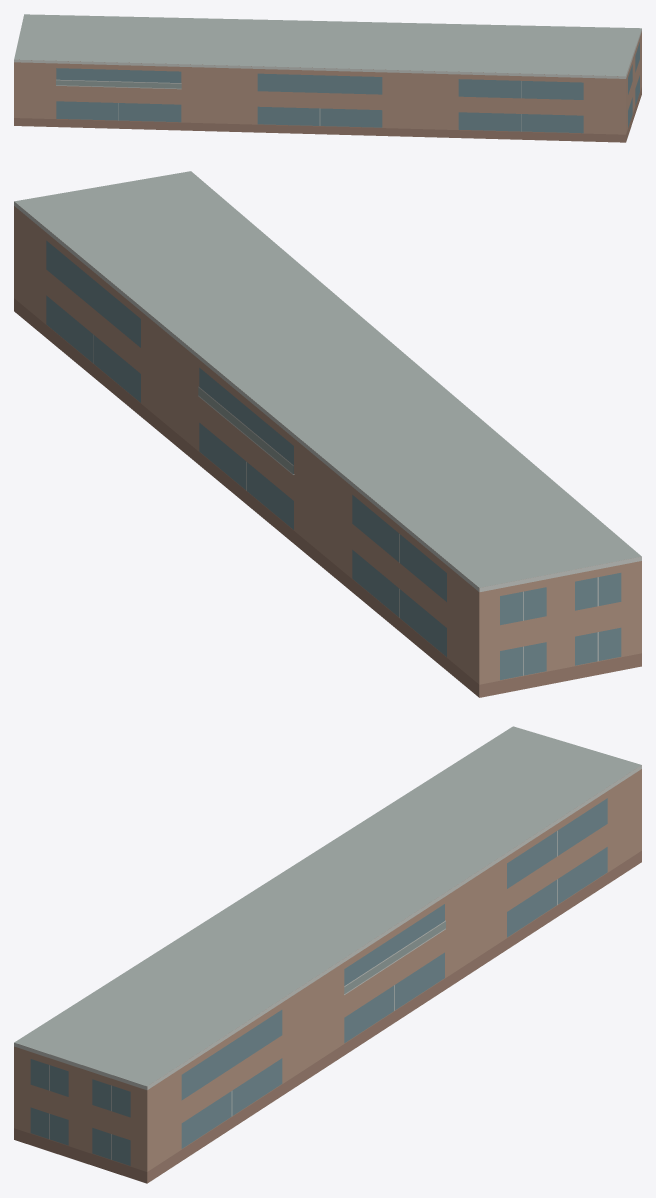
File: residential-02fe35c4-8753-4f9d-ad74-75081f94cac5.glb
The picture shows the model from 3 angles, top to bottom: view 1: azimuth 30°, elevation 25°; view 2: azimuth 150°, elevation 25°; view 3: azimuth 270°, elevation 25°; orthographic projection. The views are drawn at different scales.
Visible parts, largest first — view 1: residential-02fe35c4-8753-4f9d-ad74-75081f94cac5.tmp; view 2: residential-02fe35c4-8753-4f9d-ad74-75081f94cac5.tmp; view 3: residential-02fe35c4-8753-4f9d-ad74-75081f94cac5.tmp.
Part boxes in pixels (<box>): residential-02fe35c4-8753-4f9d-ad74-75081f94cac5.tmp: <box>14,14,641,142</box>; residential-02fe35c4-8753-4f9d-ad74-75081f94cac5.tmp: <box>14,171,641,697</box>; residential-02fe35c4-8753-4f9d-ad74-75081f94cac5.tmp: <box>14,726,641,1183</box>.
Size of the model in its own units: 48.49 by 6.1 by 35.72.
